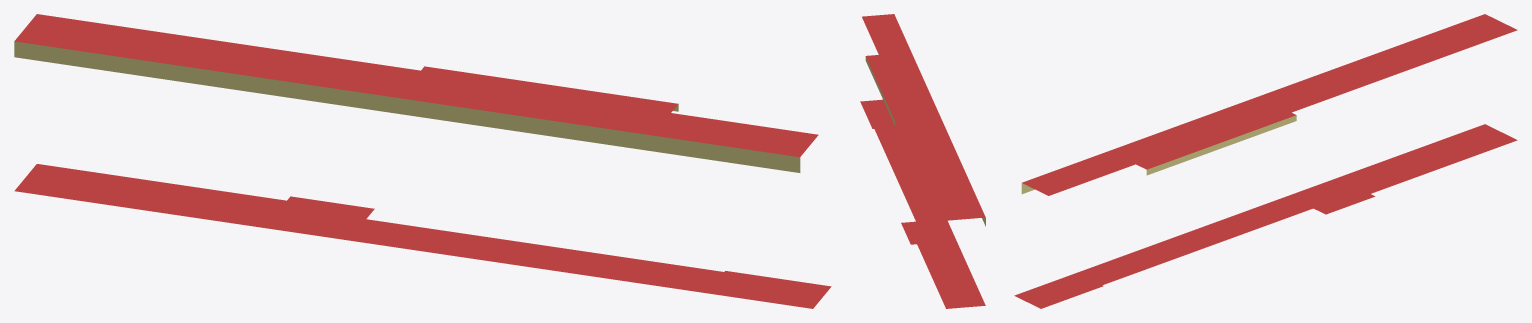
3 views of the same model, side by side, from view 1: azimuth 30°, elevation 25°; view 2: azimuth 150°, elevation 25°; view 3: azimuth 270°, elevation 25° (orthographic). The views are drawn at different scales.
Size of the model in its own units: 33.81 by 38.95 by 9.39.
